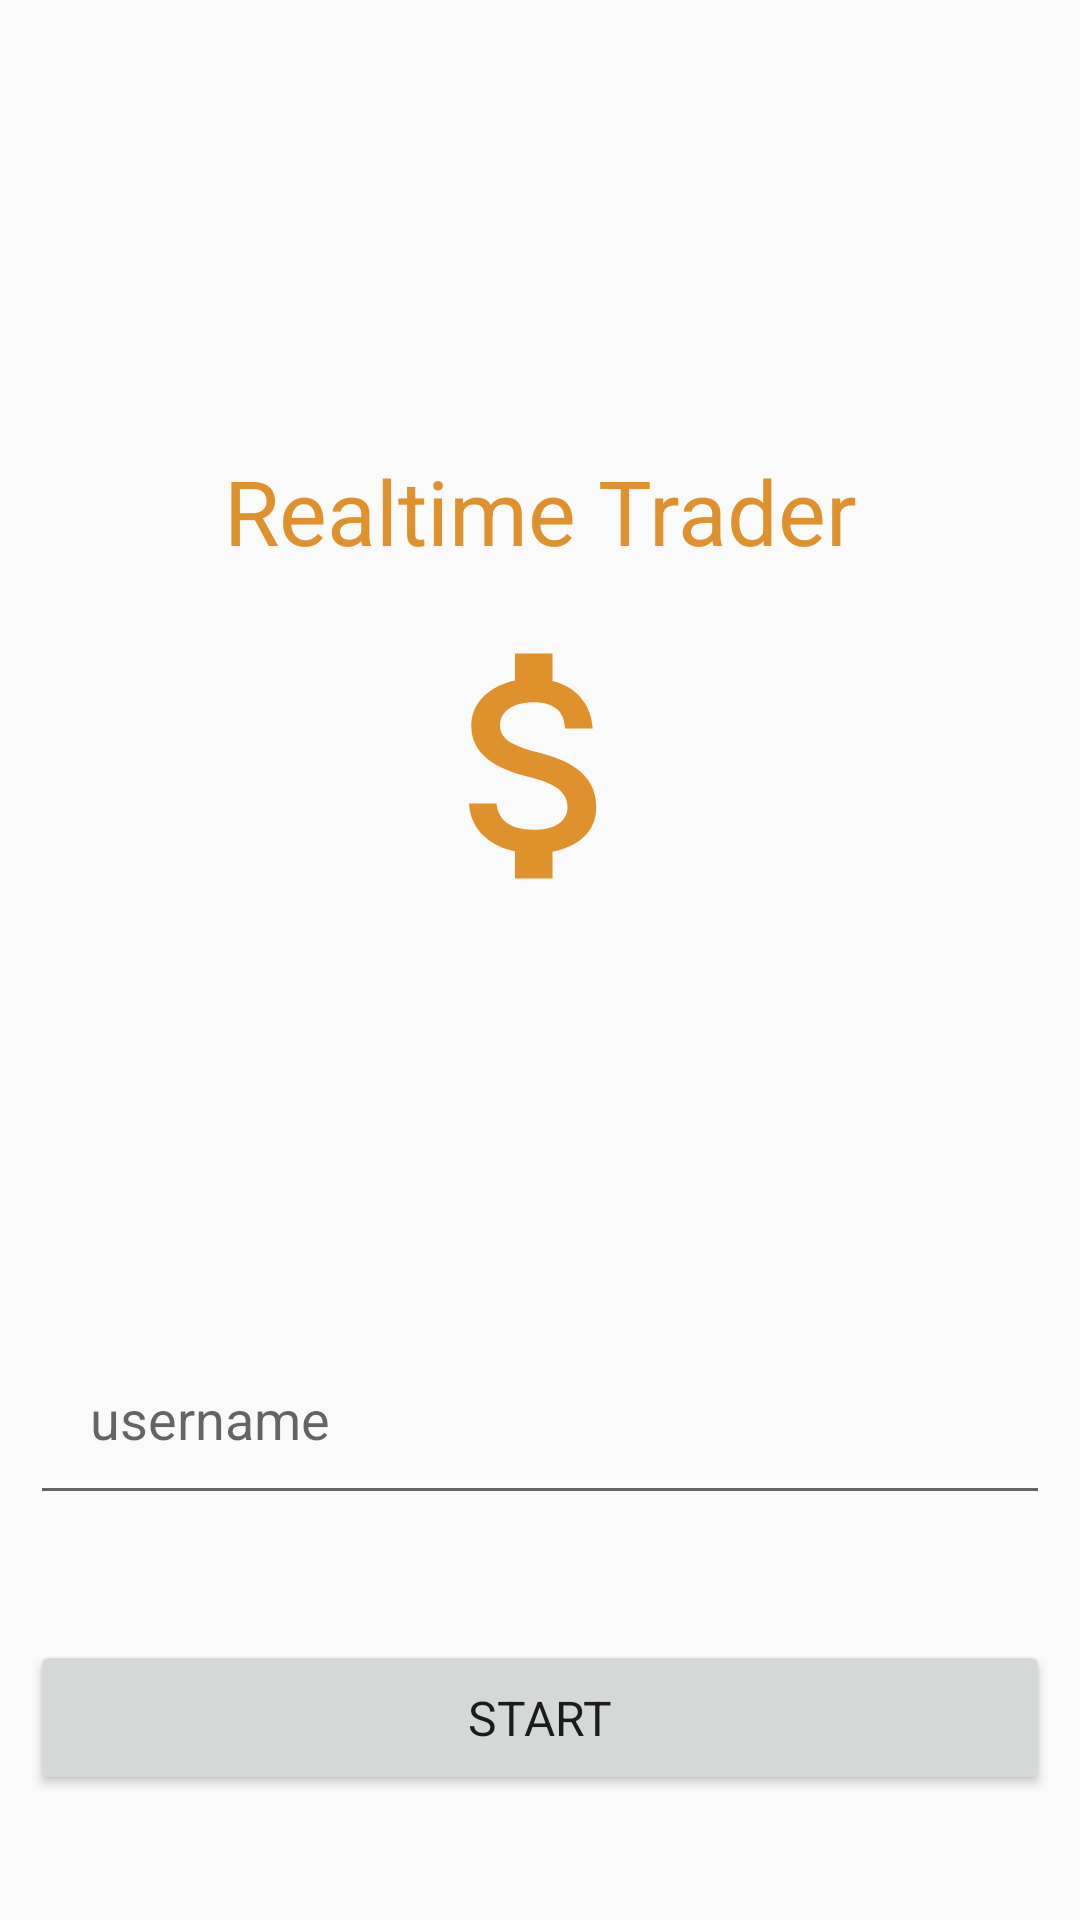

Screen size 1080px x 1920px. Icon name, then its box in pixels as (x1, y1, x2, y2):
app icon: (469, 653, 597, 879)
